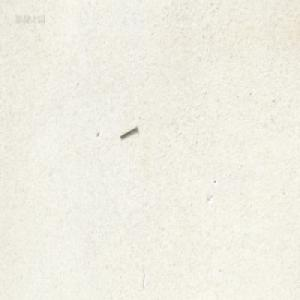Bolt: (119, 124, 137, 138)
